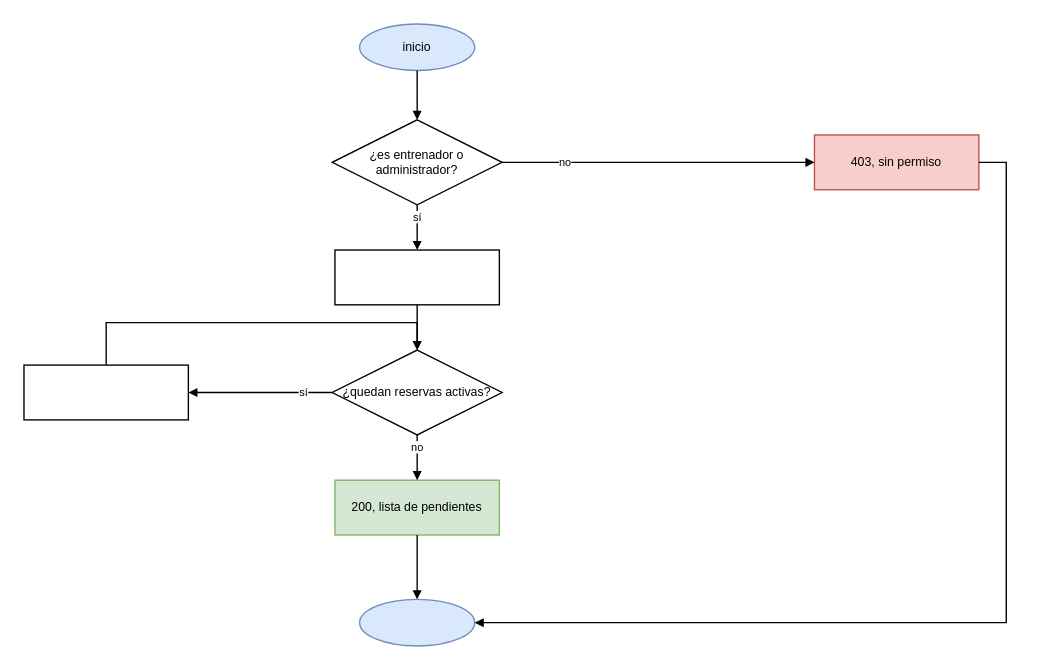
This 1038x670 diagram has some shape labels left out. The shapes that lost their labels are listed below. From the top down, each one's centre as x and y in pixels, then its label:
At (x=416, y=277): "toma la fecha de la jornada".
At (x=105, y=392): "agrega la fila del estudiante".
At (x=416, y=622): "fin".
